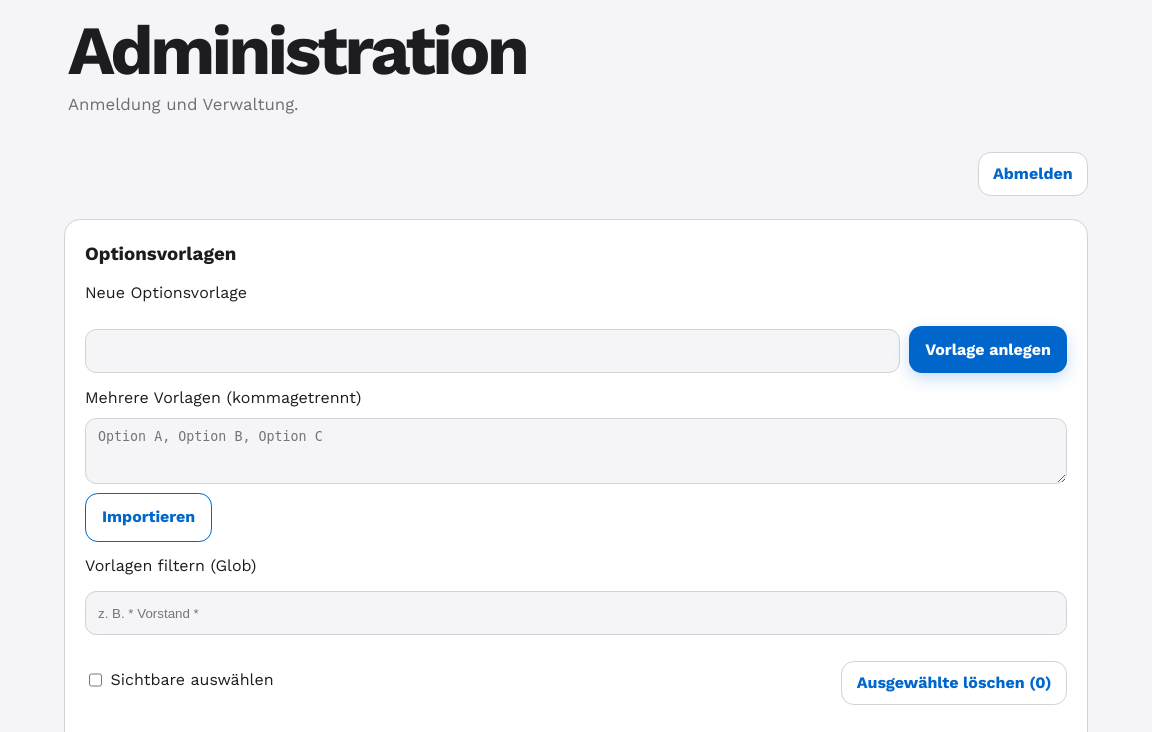
Test case: AdminPage session gate › trims batch values and reports partial failures
Check: the heading "Optionsvorlagen" is shown, box [85,243,236,265]
Type " Alpha, , Beta, beta, Gamma, Delta, Epsilon, Zeta " into the text box labelled "Mehrere Vorlagen (kommagetrennt)" at (576, 451), box [85,418,1067,484]
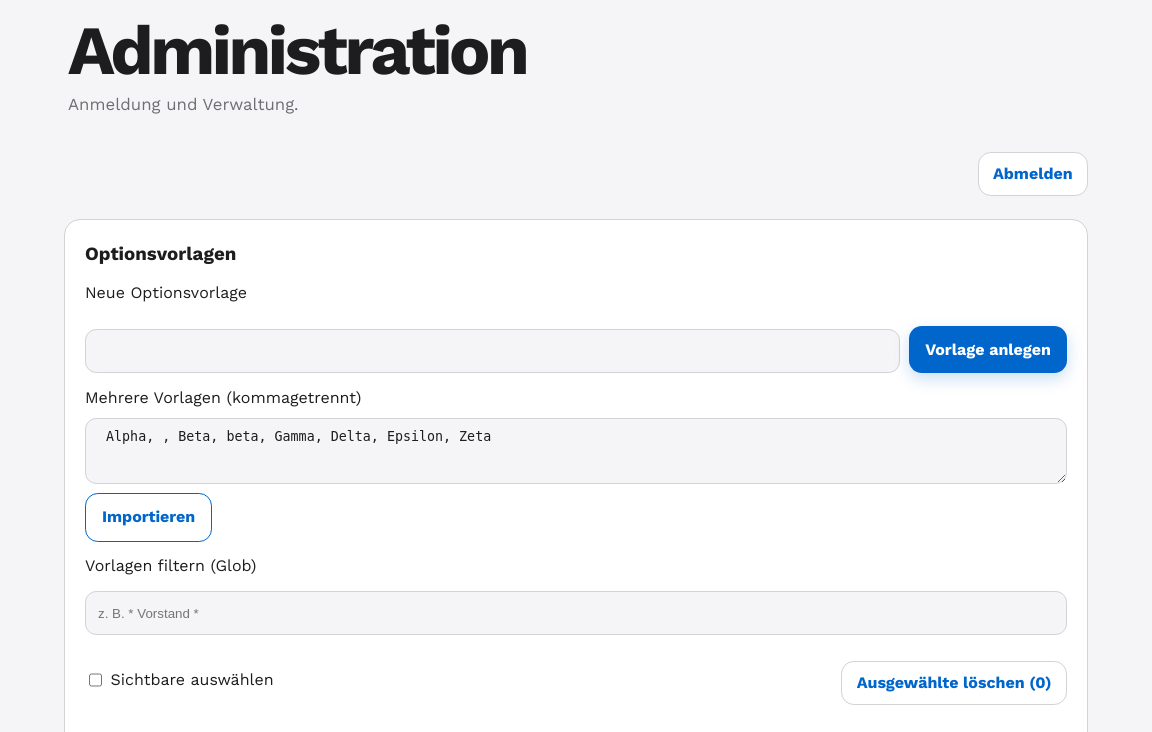
Click the button "Importieren" at (149, 518), box [85,493,212,542]
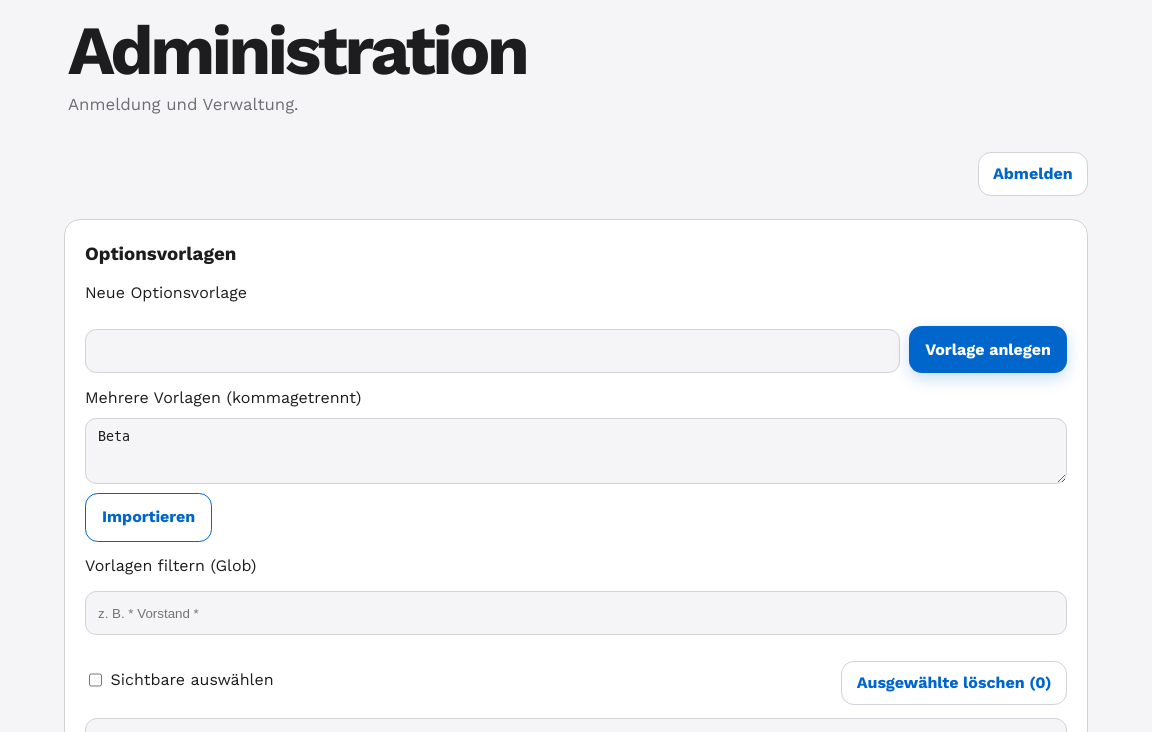
Check: the text box labelled "Mehrere Vorlagen (kommagetrennt)" holds "Beta", box [85,418,1067,484]
